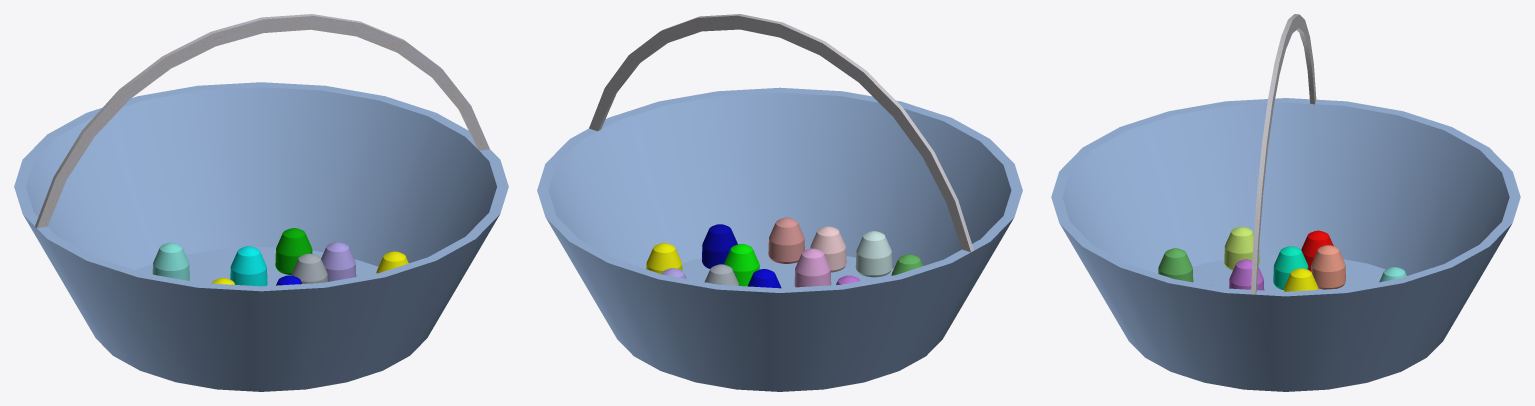
The picture shows the model from 3 angles, left to right: view 1: azimuth 30°, elevation 25°; view 2: azimuth 150°, elevation 25°; view 3: azimuth 270°, elevation 25°; orthographic projection. The views are drawn at different scales.
Parts seen in each view (by area): view 1: SketchUp, SketchUp_002, instance_8, instance_9, instance_12, instance_7, instance_11, instance_10; view 2: SketchUp, SketchUp_002, instance_1, instance_2, instance_5, instance_3, instance_18, instance_6, instance_10, instance_11, instance_4, instance_0; view 3: SketchUp, SketchUp_002, instance_19, instance_16, instance_15, instance_0, instance_13, instance_14, instance_17.
Part boxes in pixels (bbox=[...]): SketchUp: bbox=[14, 82, 508, 391]; SketchUp_002: bbox=[35, 14, 489, 228]; instance_8: bbox=[230, 246, 267, 286]; instance_9: bbox=[275, 228, 312, 274]; instance_12: bbox=[152, 242, 189, 280]; instance_7: bbox=[321, 242, 356, 281]; instance_11: bbox=[291, 253, 327, 283]; instance_10: bbox=[376, 251, 408, 273]; SketchUp: bbox=[537, 87, 1022, 391]; SketchUp_002: bbox=[589, 14, 973, 252]; instance_1: bbox=[855, 231, 892, 277]; instance_2: bbox=[768, 217, 804, 263]; instance_5: bbox=[794, 248, 831, 287]; instance_3: bbox=[702, 224, 737, 268]; instance_18: bbox=[810, 226, 846, 272]; instance_6: bbox=[724, 244, 759, 286]; instance_10: bbox=[646, 243, 682, 273]; instance_11: bbox=[704, 264, 738, 285]; instance_4: bbox=[748, 269, 781, 288]; instance_0: bbox=[891, 254, 923, 275]; SketchUp: bbox=[1051, 98, 1520, 391]; SketchUp_002: bbox=[1251, 14, 1316, 294]; instance_19: bbox=[1311, 245, 1345, 289]; instance_16: bbox=[1224, 226, 1259, 270]; instance_15: bbox=[1273, 246, 1308, 289]; instance_0: bbox=[1158, 248, 1193, 282]; instance_13: bbox=[1229, 259, 1264, 290]; instance_14: bbox=[1284, 268, 1318, 291]; instance_17: bbox=[1301, 230, 1333, 271].
Size of the model in its own units: 0.6223 by 0.6223 by 0.4191.
